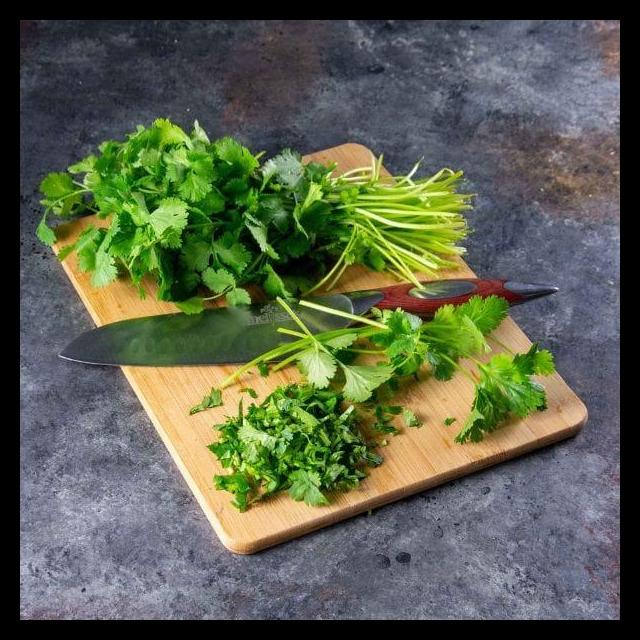cilantro: (35, 115, 477, 315), (400, 293, 555, 452)
